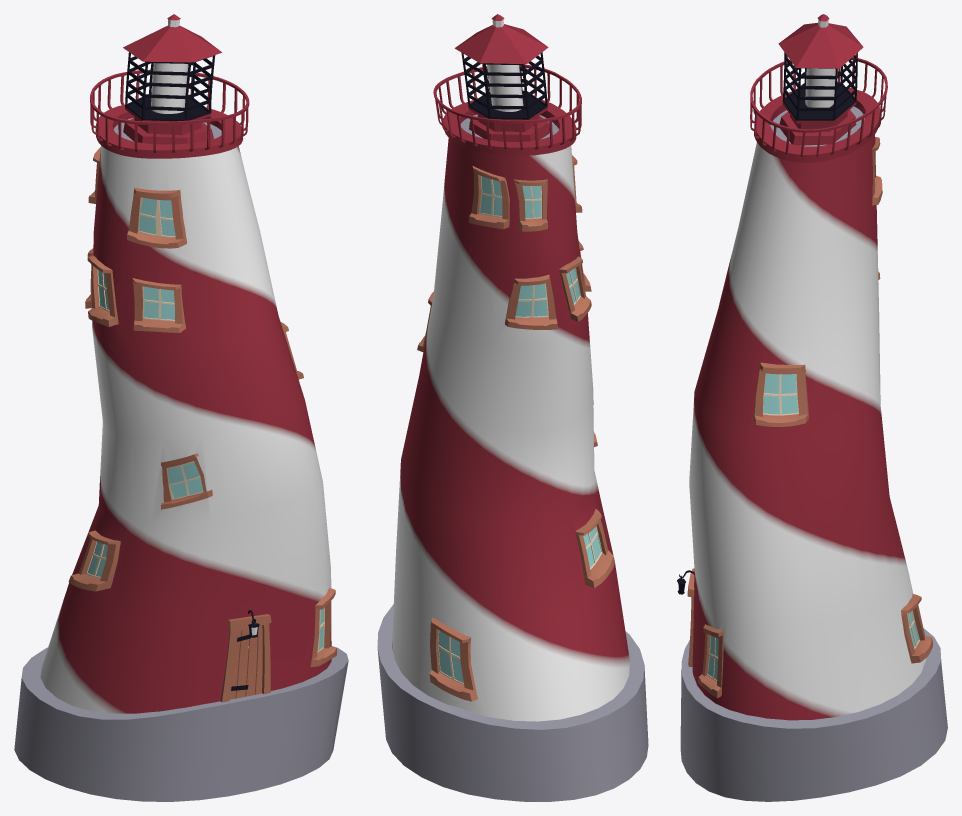
The model's file is Lighthouse_01.fbx.
3 renders of one model, left to right at view 1: azimuth 30°, elevation 25°; view 2: azimuth 150°, elevation 25°; view 3: azimuth 270°, elevation 25°, orthographic.
Parts seen in each view (by area): view 1: Lighthouse_01; view 2: Lighthouse_01; view 3: Lighthouse_01.
Boxes of the visible parts, x1,y1,x2,y2 form: Lighthouse_01: [14, 14, 348, 801]; Lighthouse_01: [377, 14, 648, 801]; Lighthouse_01: [677, 14, 947, 801].
Size of the model in its own units: 753 by 1923 by 647.
